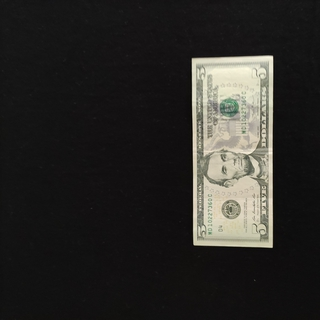5USDFront: (190, 54, 273, 249)
